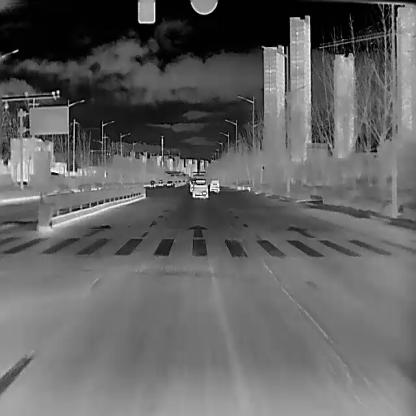car: (191, 176, 207, 197), (209, 178, 219, 192), (148, 179, 156, 187), (166, 179, 171, 186), (158, 178, 162, 186)
